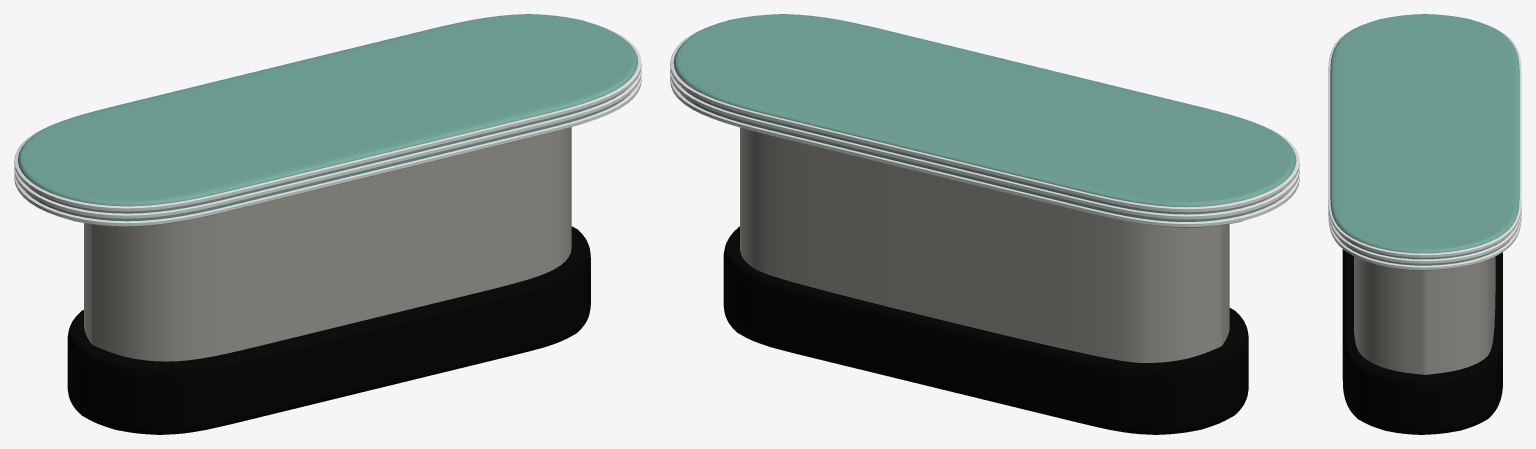
File: bozo_table.fbx
3 renders of one model, left to right at view 1: azimuth 30°, elevation 25°; view 2: azimuth 150°, elevation 25°; view 3: azimuth 270°, elevation 25°, orthographic. The views are drawn at different scales.
Parts seen in each view (by area): view 1: pasted__pCube16, pasted__pasted__pCube16, pasted__pasted__pCube17, pasted__pasted__pCube19, pasted__pasted__pCube18, pasted__pasted__pCube20; view 2: pasted__pCube16, pasted__pasted__pCube16, pasted__pasted__pCube17, pasted__pasted__pCube19, pasted__pasted__pCube18, pasted__pasted__pCube20; view 3: pasted__pasted__pCube16, pasted__pCube16, pasted__pasted__pCube17, pasted__pasted__pCube19, pasted__pasted__pCube20, pasted__pasted__pCube18.
Part boxes in pixels (x1=…): pasted__pCube16: x1=84, y1=127, x2=571, y2=361; pasted__pasted__pCube16: x1=18, y1=14, x2=638, y2=227; pasted__pasted__pCube17: x1=67, y1=226, x2=590, y2=434; pasted__pasted__pCube19: x1=14, y1=25, x2=641, y2=211; pasted__pasted__pCube18: x1=14, y1=69, x2=641, y2=218; pasted__pasted__pCube20: x1=14, y1=76, x2=641, y2=226; pasted__pCube16: x1=740, y1=127, x2=1229, y2=362; pasted__pasted__pCube16: x1=673, y1=14, x2=1296, y2=227; pasted__pasted__pCube17: x1=723, y1=226, x2=1248, y2=434; pasted__pasted__pCube19: x1=670, y1=27, x2=1299, y2=212; pasted__pasted__pCube18: x1=670, y1=68, x2=1299, y2=219; pasted__pasted__pCube20: x1=670, y1=76, x2=1299, y2=227; pasted__pasted__pCube16: x1=1330, y1=14, x2=1519, y2=270; pasted__pCube16: x1=1354, y1=256, x2=1495, y2=374; pasted__pasted__pCube17: x1=1342, y1=249, x2=1502, y2=434; pasted__pasted__pCube19: x1=1328, y1=25, x2=1521, y2=257; pasted__pasted__pCube20: x1=1328, y1=211, x2=1521, y2=269; pasted__pasted__pCube18: x1=1328, y1=205, x2=1521, y2=263.
Size of the model in its own units: 5.18 by 2.05 by 1.76.
